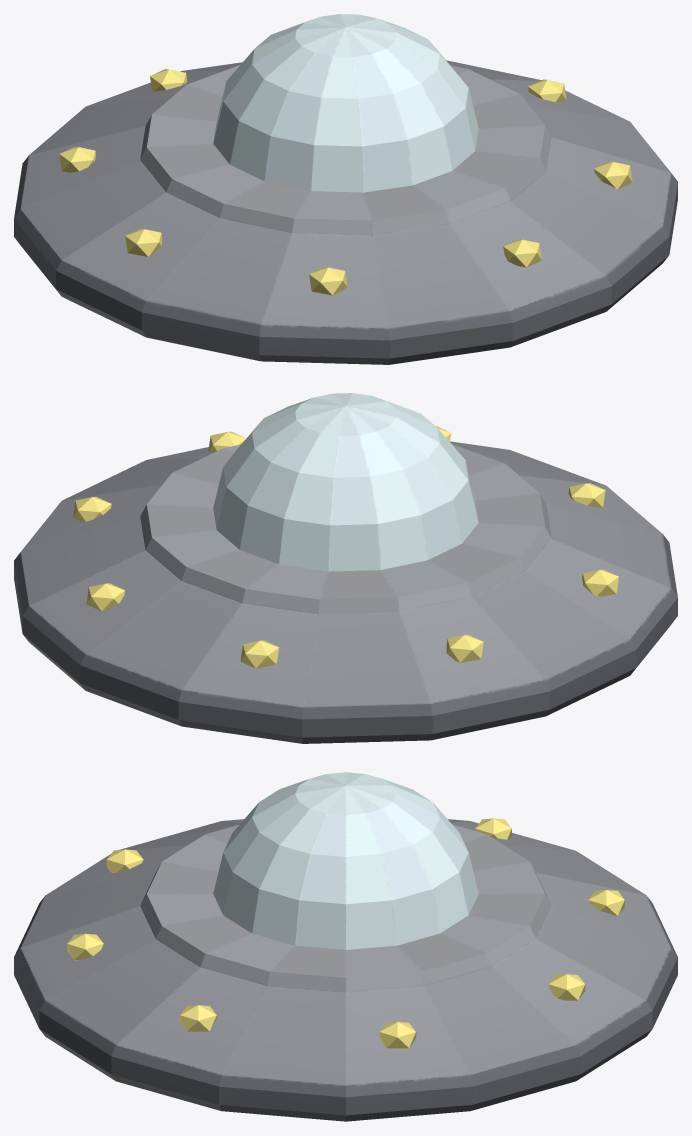
The model's file is Ufo.fbx.
The picture shows the model from 3 angles, top to bottom: view 1: azimuth 30°, elevation 25°; view 2: azimuth 150°, elevation 25°; view 3: azimuth 270°, elevation 25°; orthographic projection.
Visible parts, largest first — view 1: Ufo; view 2: Ufo; view 3: Ufo.
Part boxes in pixels (<box>): Ufo: <box>14,14,677,364</box>; Ufo: <box>14,393,677,743</box>; Ufo: <box>14,772,677,1121</box>.
Size of the model in its own units: 200 by 96 by 200.
1 material, 1 textured.
